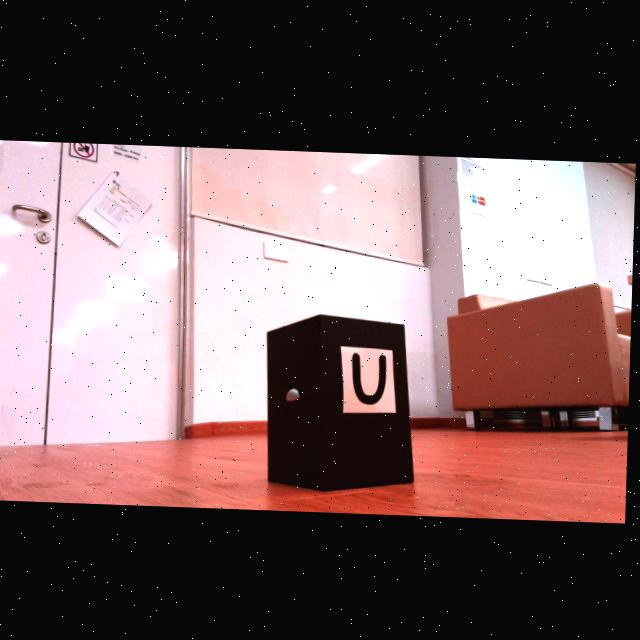U: (355, 350, 389, 402)
